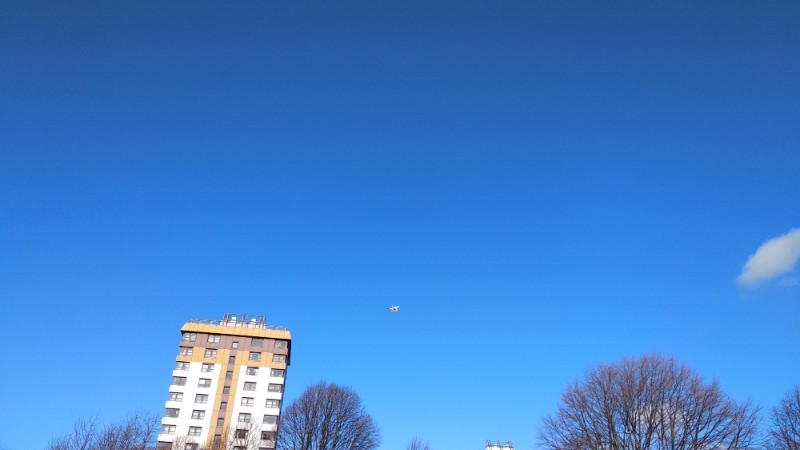drone: (388, 304, 400, 312)
